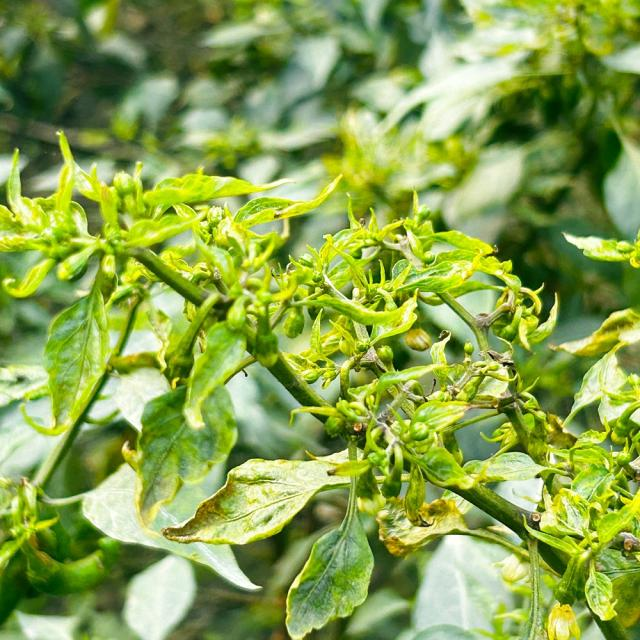Chilli_Leaf_Curl: (1, 129, 638, 638), (79, 458, 264, 592), (160, 446, 359, 546), (560, 228, 639, 268)
